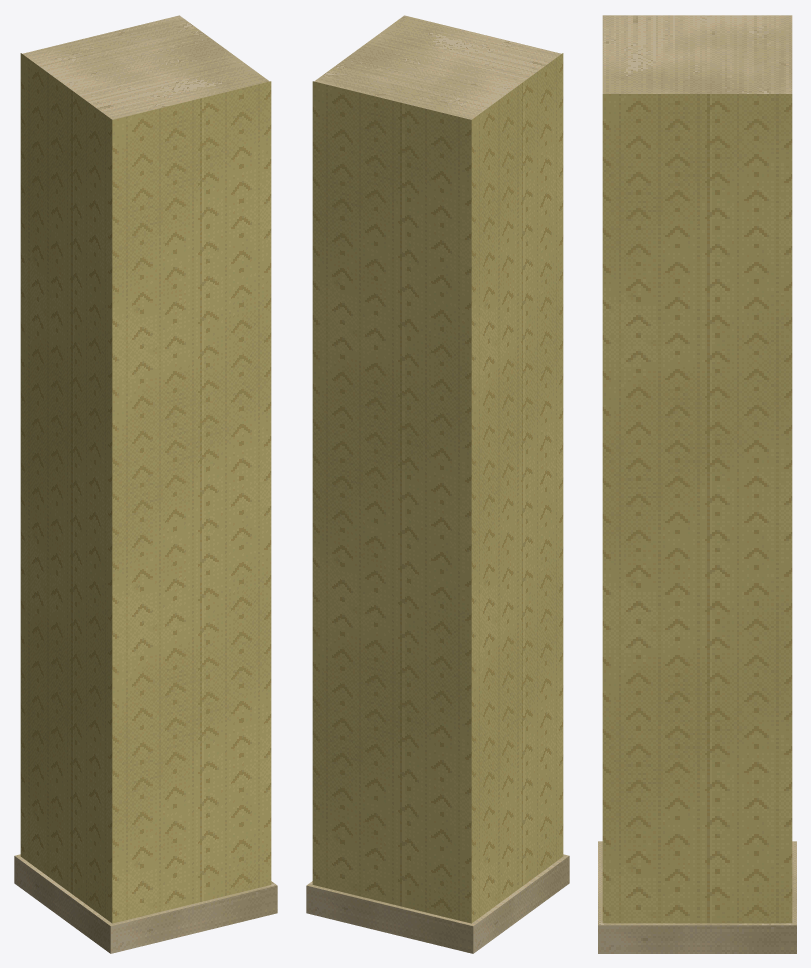
The model's file is back_pillar.glb.
The picture shows the model from 3 angles, left to right: view 1: azimuth 30°, elevation 25°; view 2: azimuth 150°, elevation 25°; view 3: azimuth 270°, elevation 25°; orthographic projection. The views are drawn at different scales.
Parts seen in each view (by area): view 1: back_pillar; view 2: back_pillar; view 3: back_pillar.
Part boxes in pixels (box(x1,y1,x2,y2)): back_pillar: box(14, 15, 277, 953); back_pillar: box(306, 15, 569, 953); back_pillar: box(598, 15, 796, 953).
Bounding box in the file's own units: 0.63 × 3 × 0.63.
Materials: 2 (2 with a texture image).
